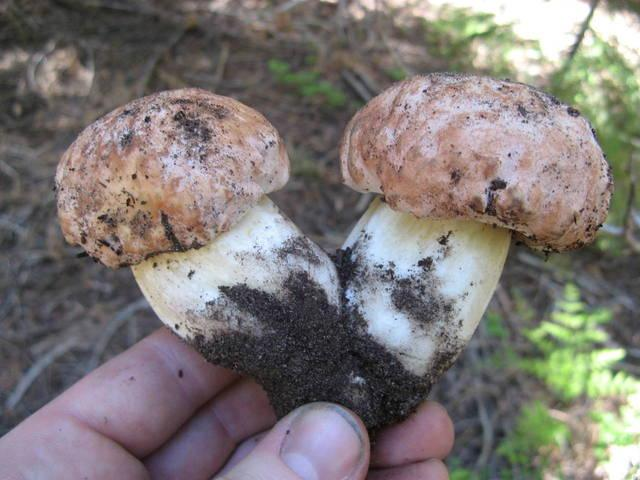Edible Mushroom: (54, 71, 611, 420)
